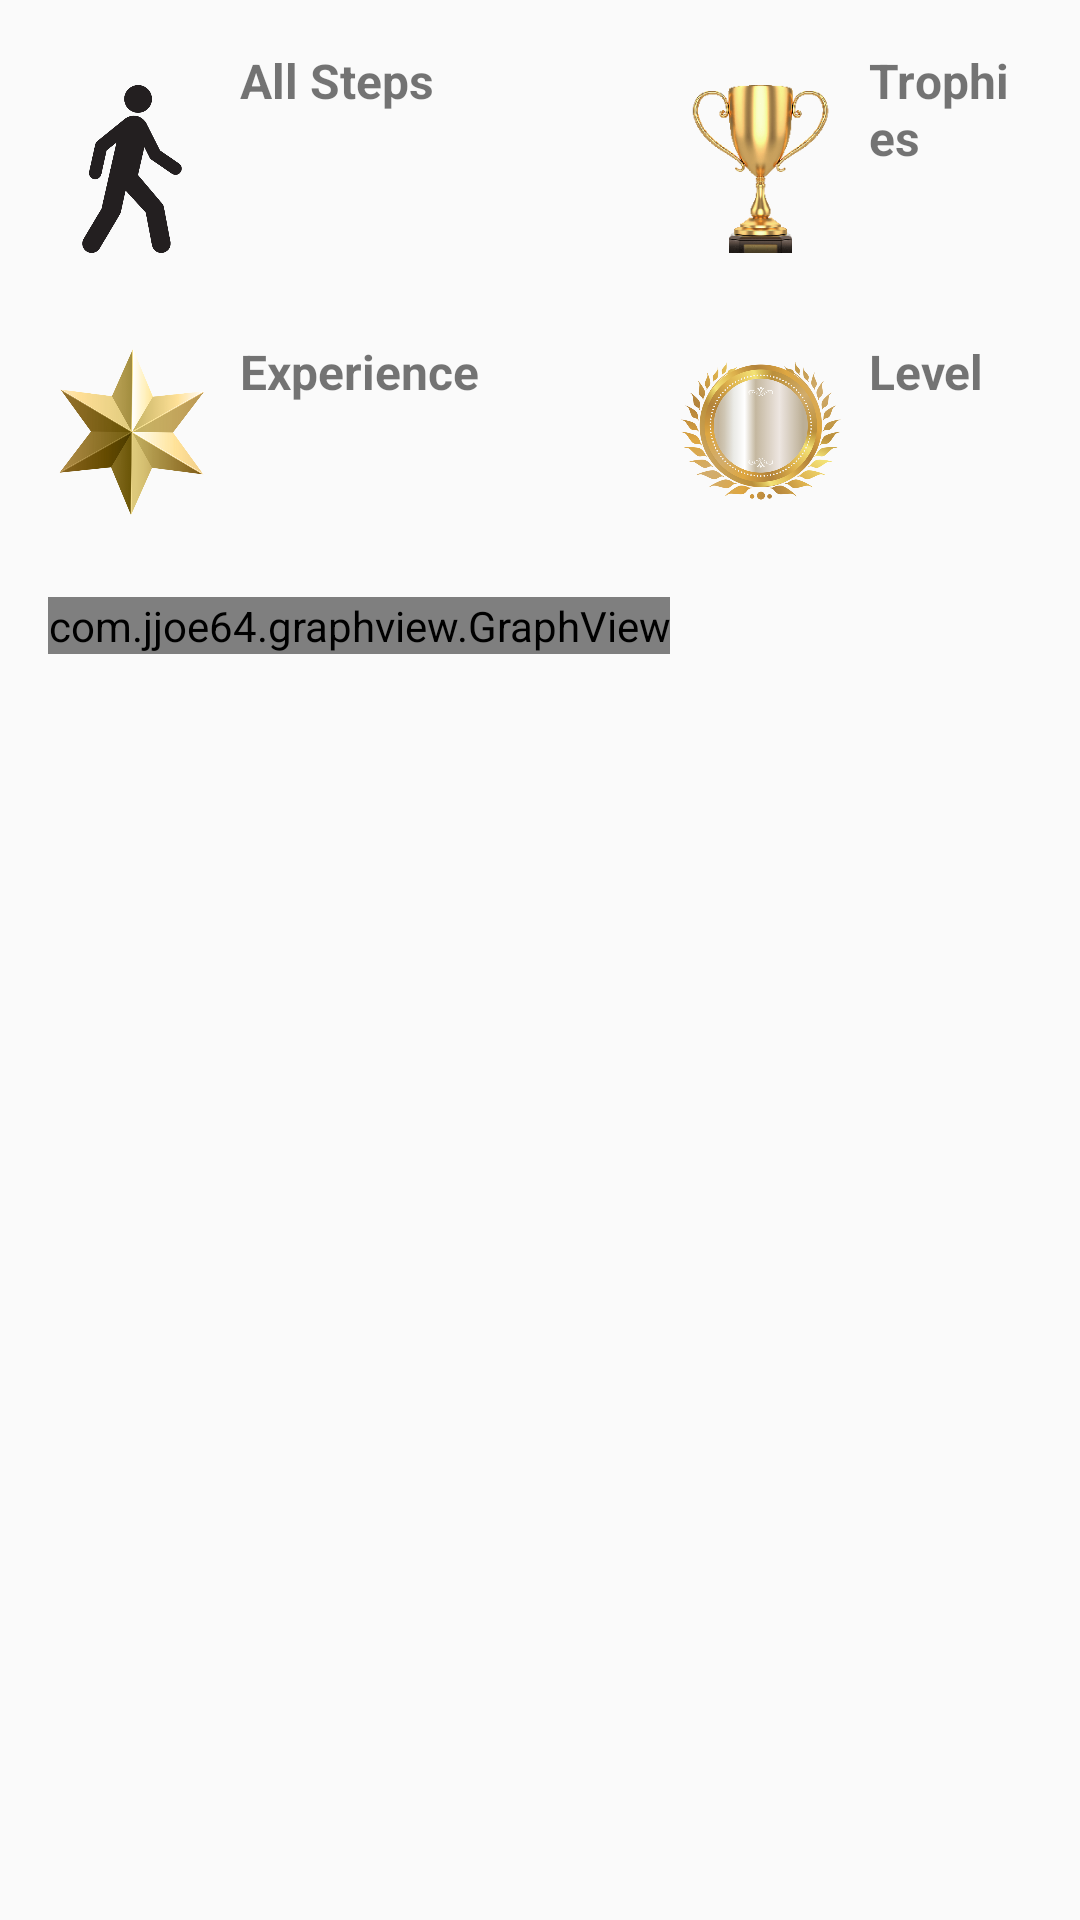

Screen size 1080px×1920px. Icon name, then its box in pixels as (x1, y1, x2, y2):
Trophy image: (692, 85, 829, 253)
Walked distance image: (82, 85, 182, 253)
